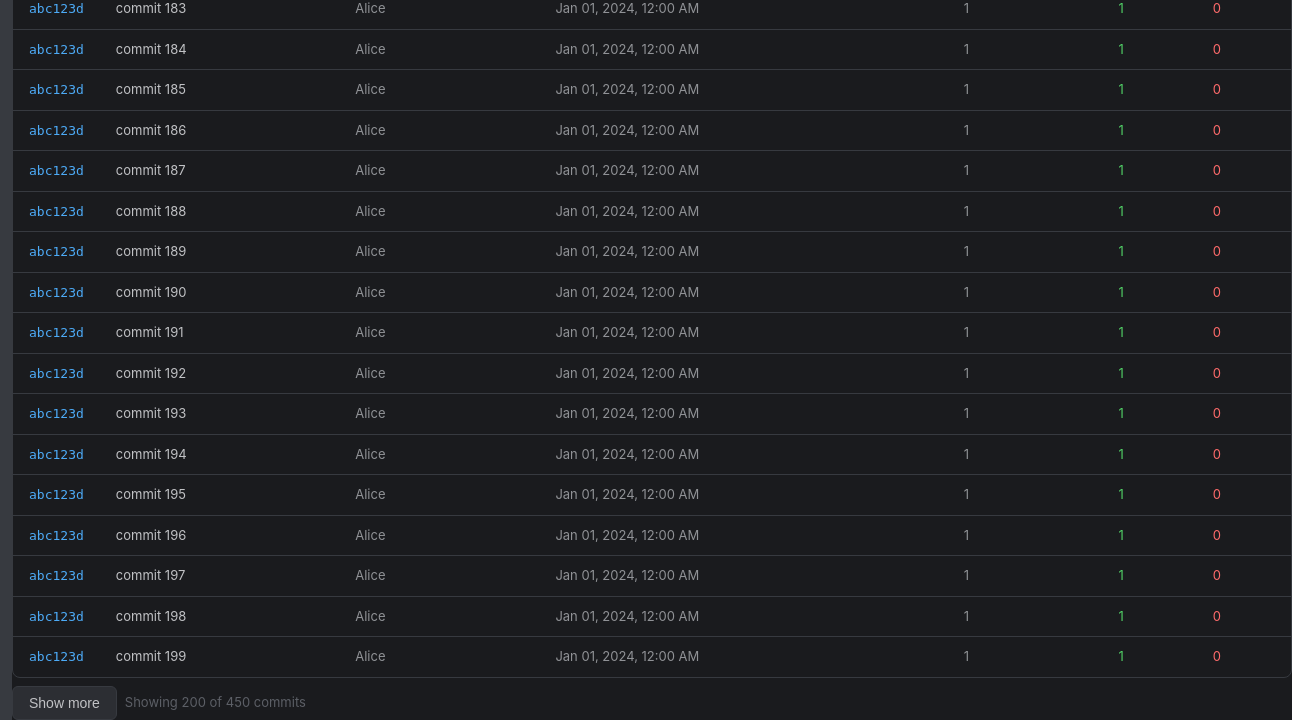
it: CommitsPage › renders a bounded table with a show-more control
(page scrolled)
Expected: the text "Showing 200 of 450 commits" is shown, [125,693,306,712]
Click the button "Show more". click: (64, 702)
box: [12,686,117,719]
(page scrolled)
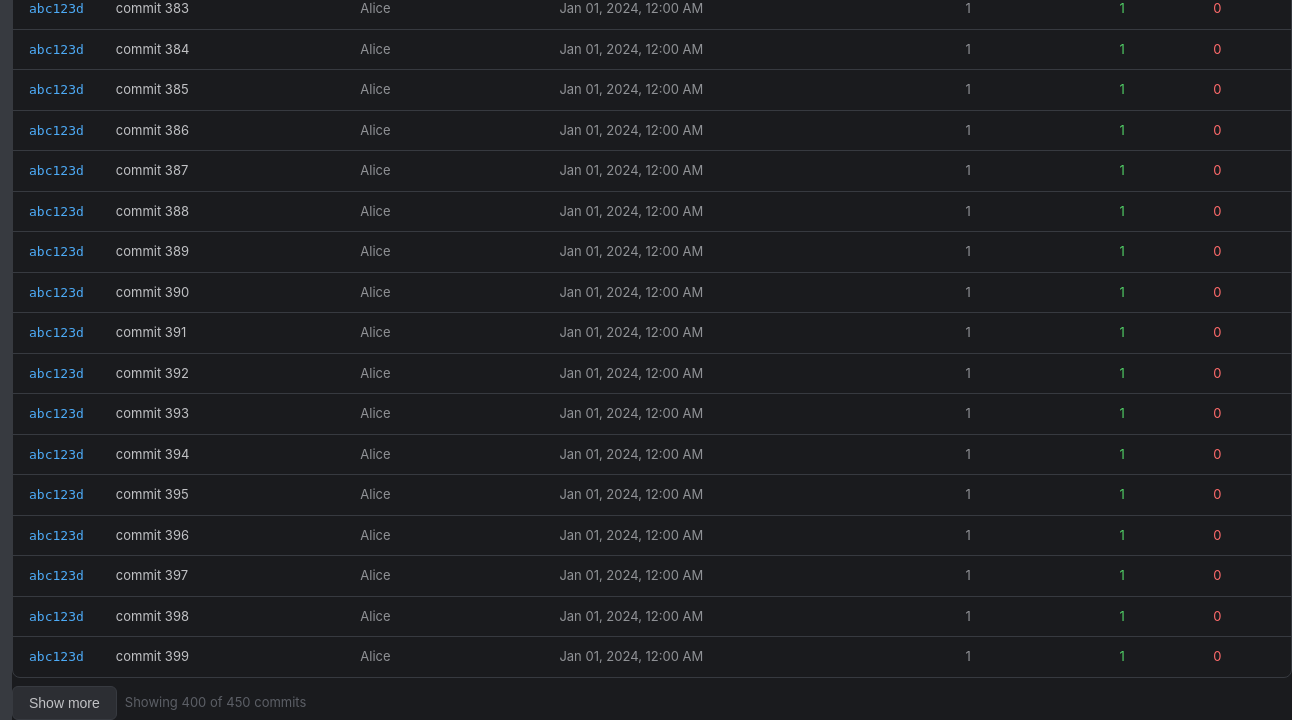
Now the text "Showing 400 of 450 commits" is shown, box [125,693,306,712]
